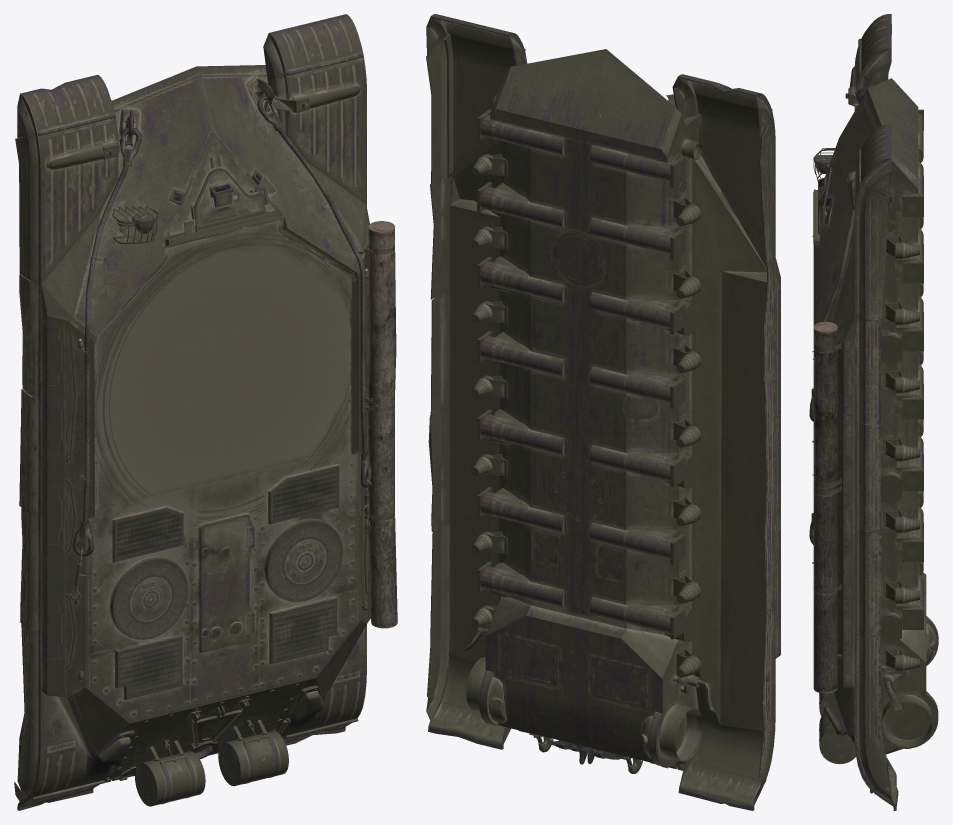
File: Hull.glb
3 renders of one model, left to right at view 1: azimuth 30°, elevation 25°; view 2: azimuth 150°, elevation 25°; view 3: azimuth 270°, elevation 25°, orthographic. The views are drawn at different scales.
Parts seen in each view (by area): view 1: set_0_group_0; view 2: set_0_group_0; view 3: set_0_group_0.
Part boxes in pixels (x1,y1,x2,y2): set_0_group_0: (14, 14, 397, 810); set_0_group_0: (426, 14, 780, 810); set_0_group_0: (809, 14, 938, 810).
Size of the model in its own units: 3.63 by 7.19 by 1.29.
1 material, 1 textured.
